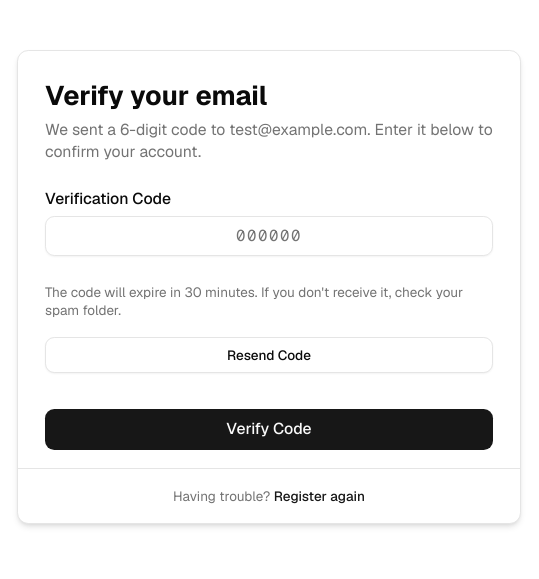
Test: VerificationForm Component › Form Submission › should show success message on successful verification
The width and height of the screenshot is (539, 579).
Type "123456" into the field with placeholder "000000" at (269, 236), box [45, 216, 493, 256]
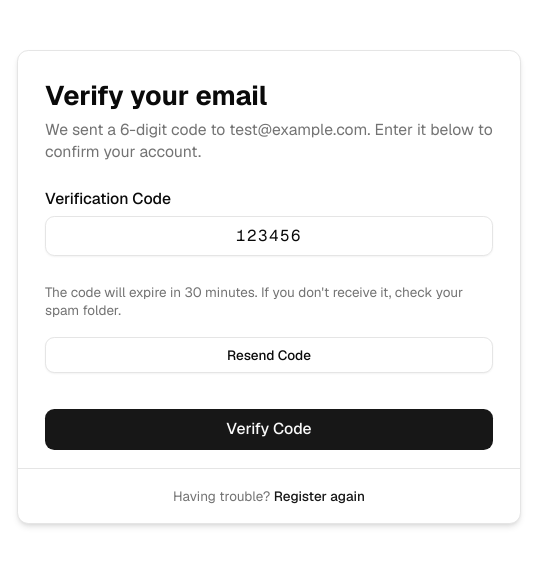
Click the button "Verify Code" at (269, 429), box [45, 409, 493, 450]
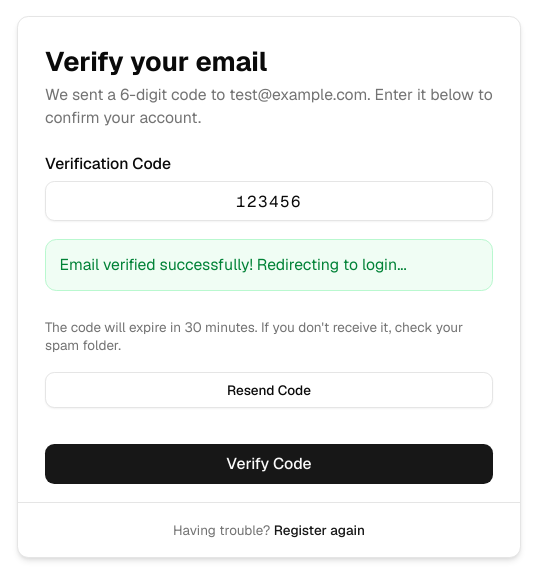
Now the text "Email verified successfully! Redirecting to login..." is shown, box [45, 239, 493, 291]
